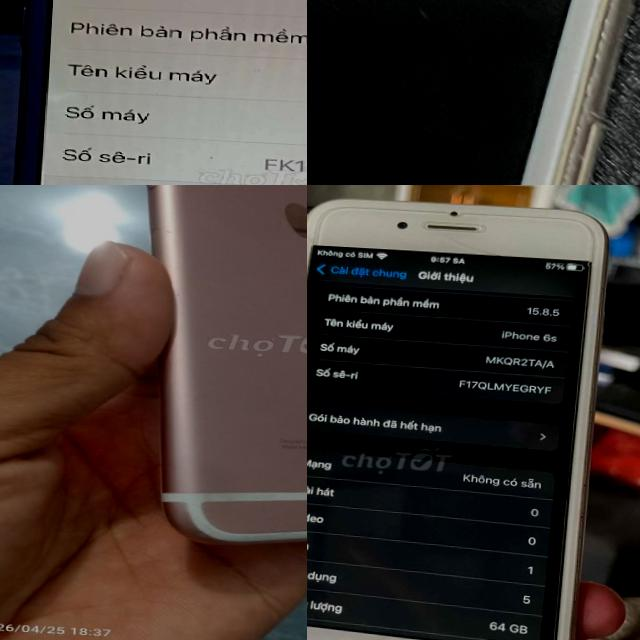gen_6: (307, 188, 640, 640), (107, 185, 307, 564)
gen_7_8: (307, 0, 640, 185), (0, 0, 307, 185)
